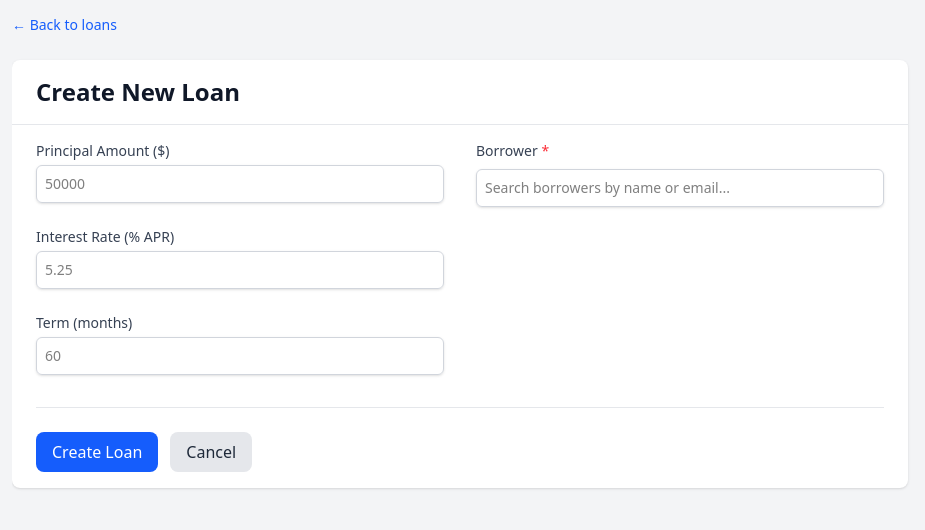
Test: LoanForm › Form Validation › shows error for zero principal amount
The image size is (925, 530).
Step 1. Type "0" into the number field labelled "Principal Amount ($)" → (240, 184), box [36,165,444,203]
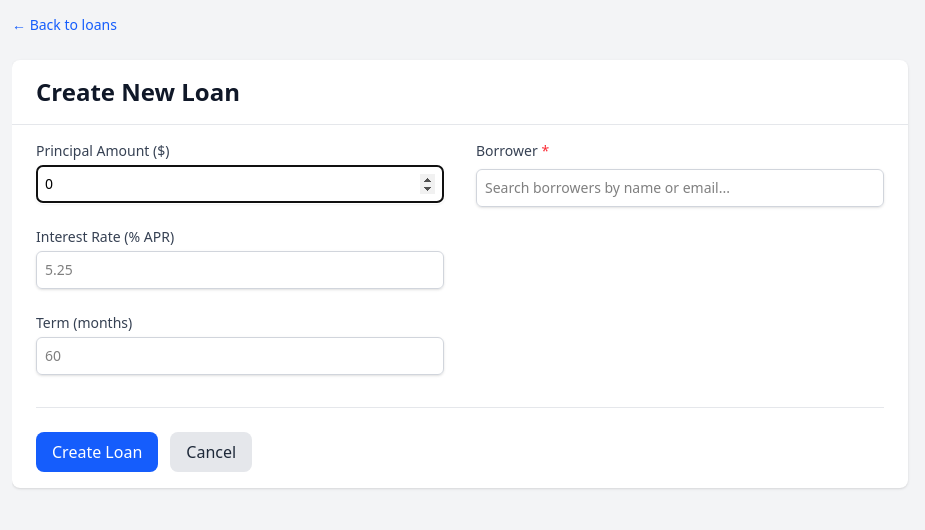
Step 2. Type "5" into the number field labelled "Interest Rate (% APR)" → (240, 270), box [36,251,444,289]
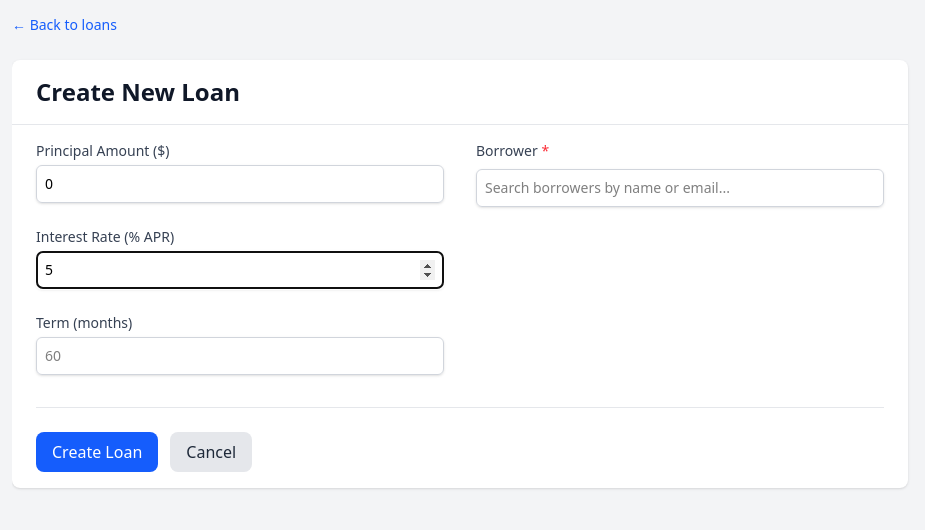
Step 3. Type "12" into the number field labelled "Term (months)" → (240, 356), box [36,337,444,375]
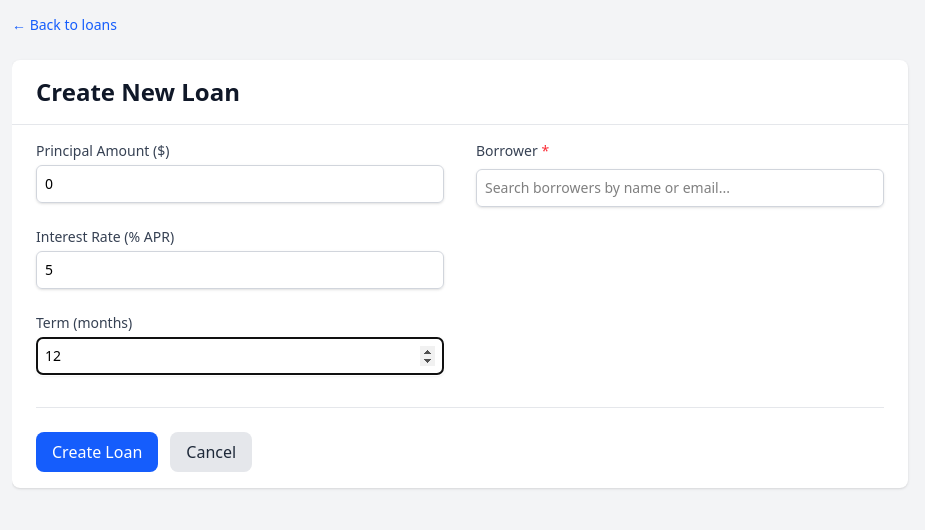
Step 4. Click the button "Create Loan" → (97, 452), box [36,432,158,472]
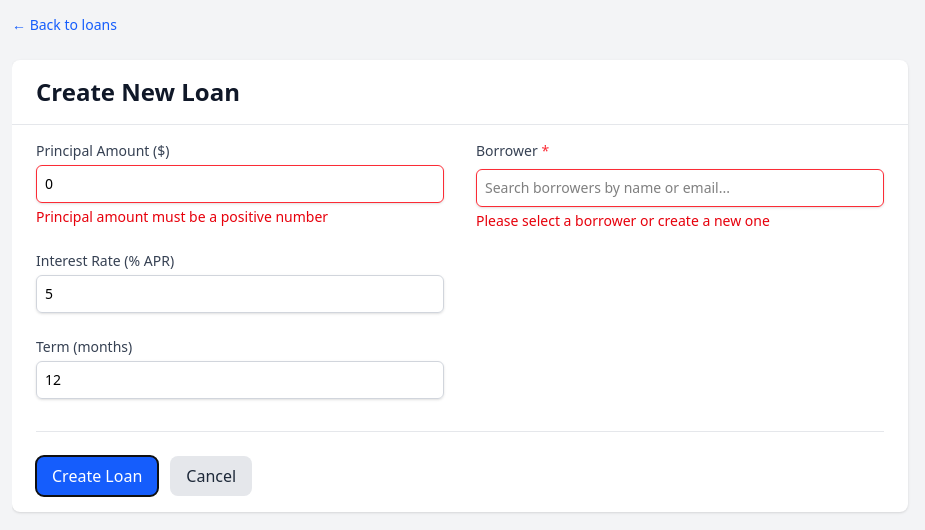
Result: the text "Principal amount must be a positive number" is shown at [36,207,328,226]
